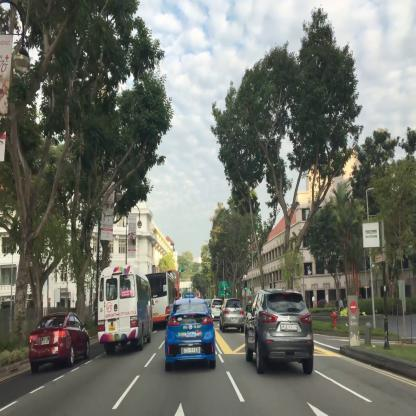green_traffic_light: (244, 280, 247, 290)
